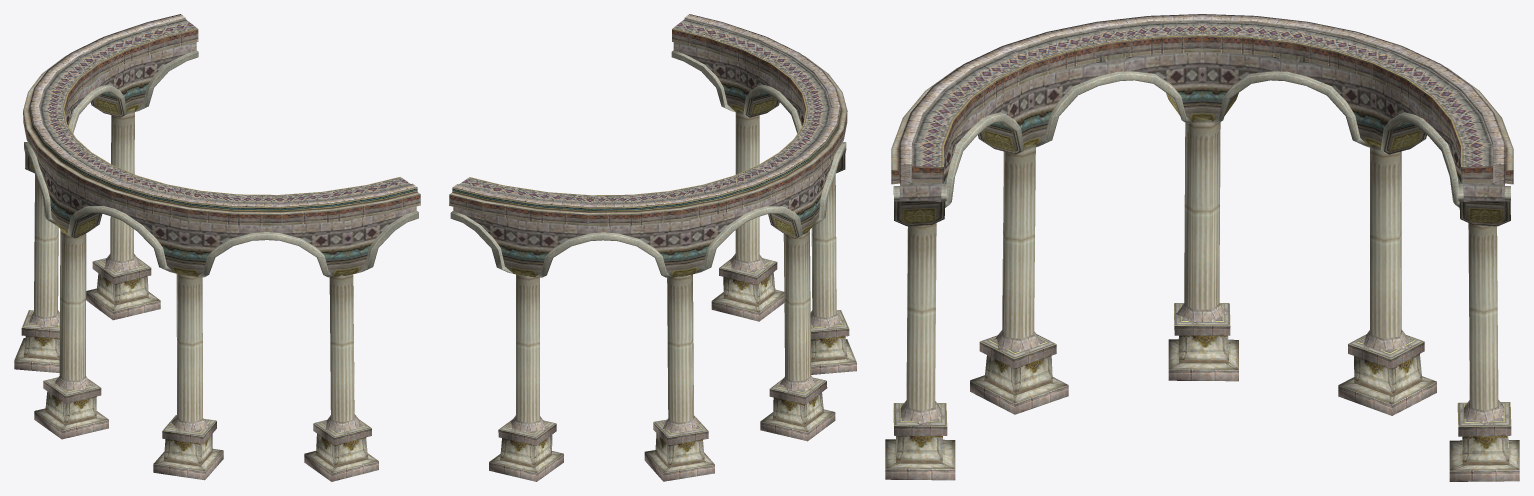
Rendered from S_Build_City012.FBX.
3 views of the same model, side by side, from view 1: azimuth 30°, elevation 25°; view 2: azimuth 150°, elevation 25°; view 3: azimuth 270°, elevation 25° (orthographic). The views are drawn at different scales.
Parts seen in each view (by area): view 1: S_Build_City012; view 2: S_Build_City012; view 3: S_Build_City012.
Boxes of the visible parts, x1,y1,x2,y2 form: S_Build_City012: (14, 14, 420, 481); S_Build_City012: (449, 14, 856, 481); S_Build_City012: (885, 14, 1519, 481).
Bounding box in the file's own units: 586 × 603 × 1003.
